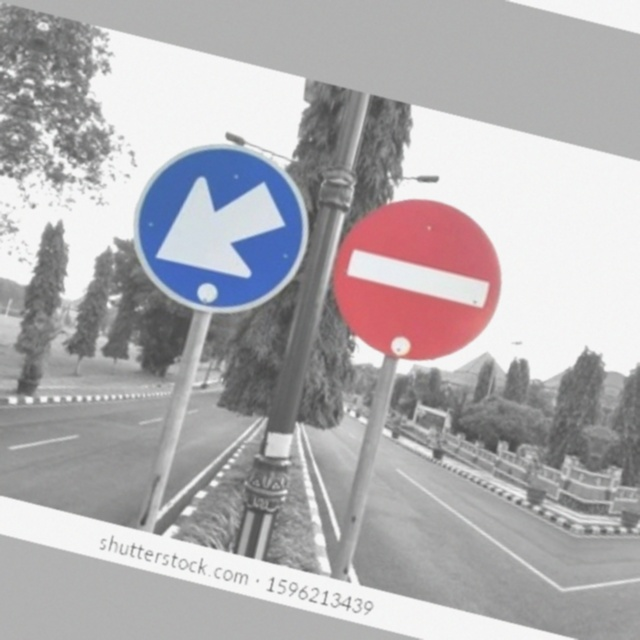Compulsory_Keep_Left: (120, 130, 319, 322)
